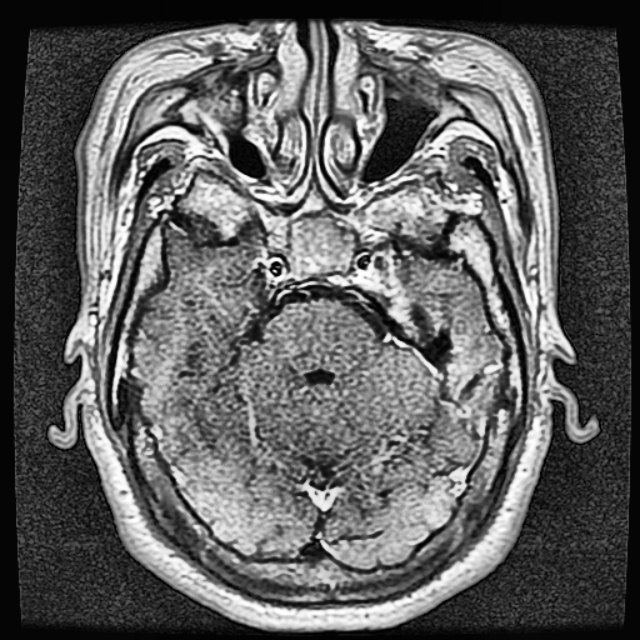Pituitary: (288, 213, 358, 280)
